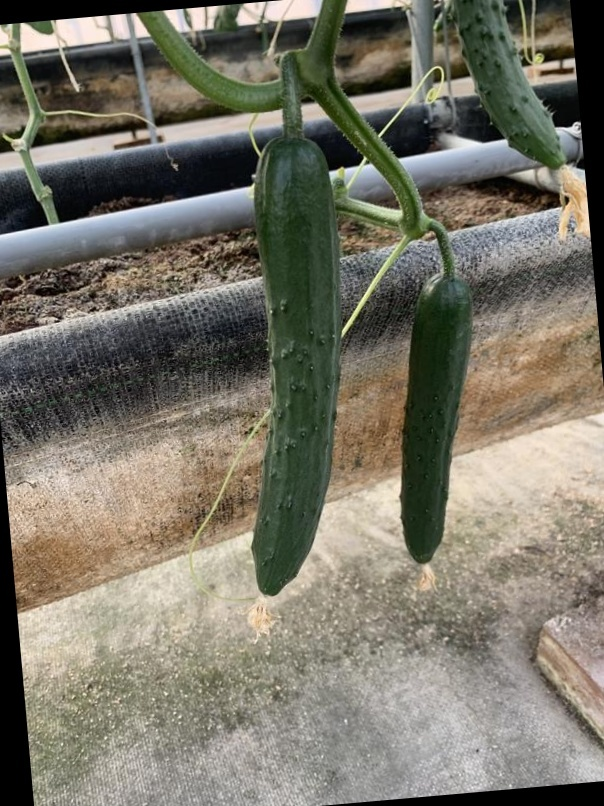mature: (237, 133, 344, 612), (387, 268, 486, 566)
